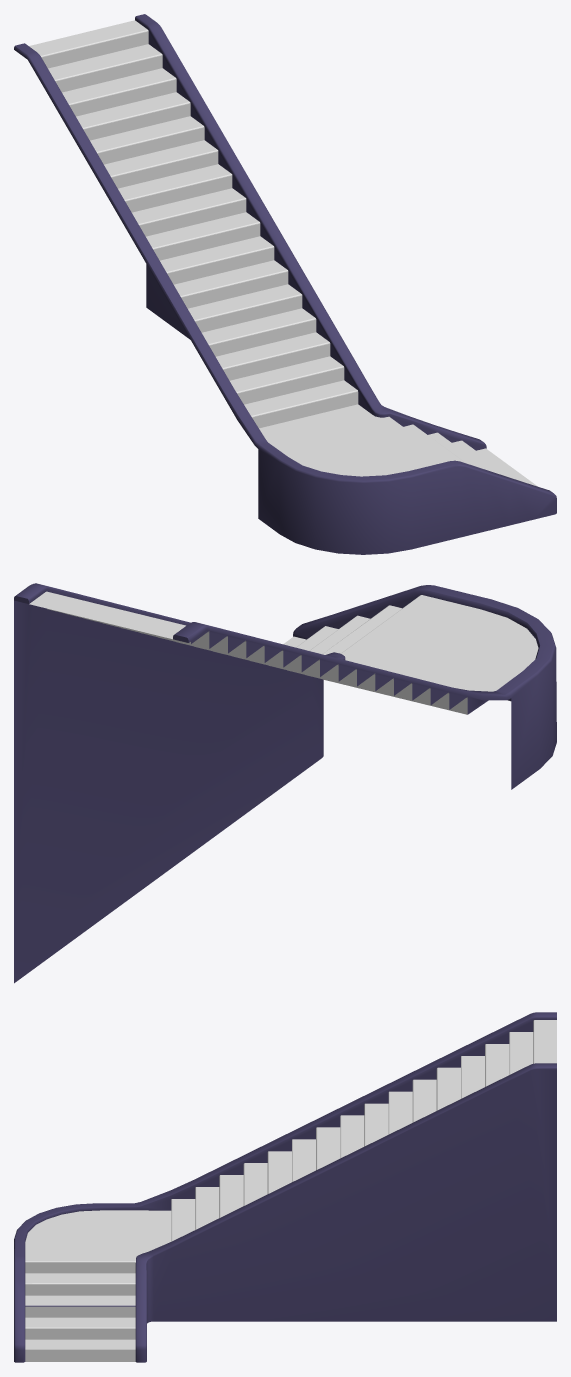
The model's file is Mh_Stairs.fbx.
The picture shows the model from 3 angles, top to bottom: view 1: azimuth 30°, elevation 25°; view 2: azimuth 150°, elevation 25°; view 3: azimuth 270°, elevation 25°; orthographic projection. The views are drawn at different scales.
Parts seen in each view (by area): view 1: Mh_Stairs; view 2: Mh_Stairs; view 3: Mh_Stairs.
Part boxes in pixels (box(x1,y1,x2,y2)): Mh_Stairs: box(14, 14, 556, 554); Mh_Stairs: box(14, 583, 556, 983); Mh_Stairs: box(14, 1012, 556, 1362).
Bounding box in the file's own units: 370 × 452 × 875.
